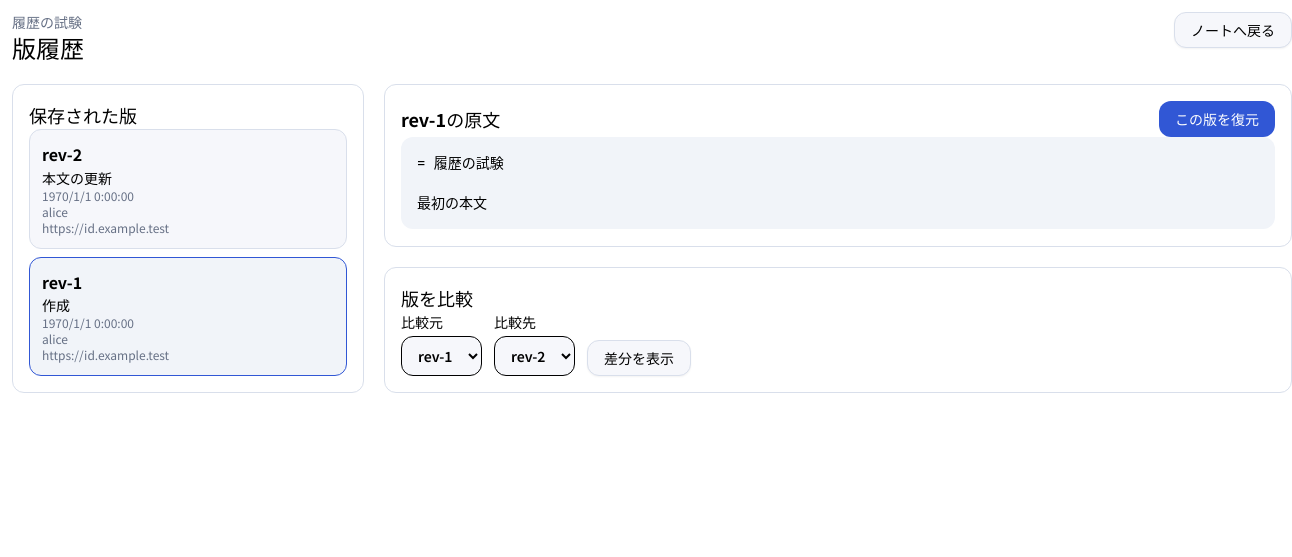
Test case: NoteHistoryPage › 過去版の原文と行単位diffを表示する
Expected: the text "最初の本文" is shown, x1=417 y1=153 x2=504 y2=212
Step 1. Click the button "差分を表示" → (639, 358), box x1=587 y1=340 x2=691 y2=376
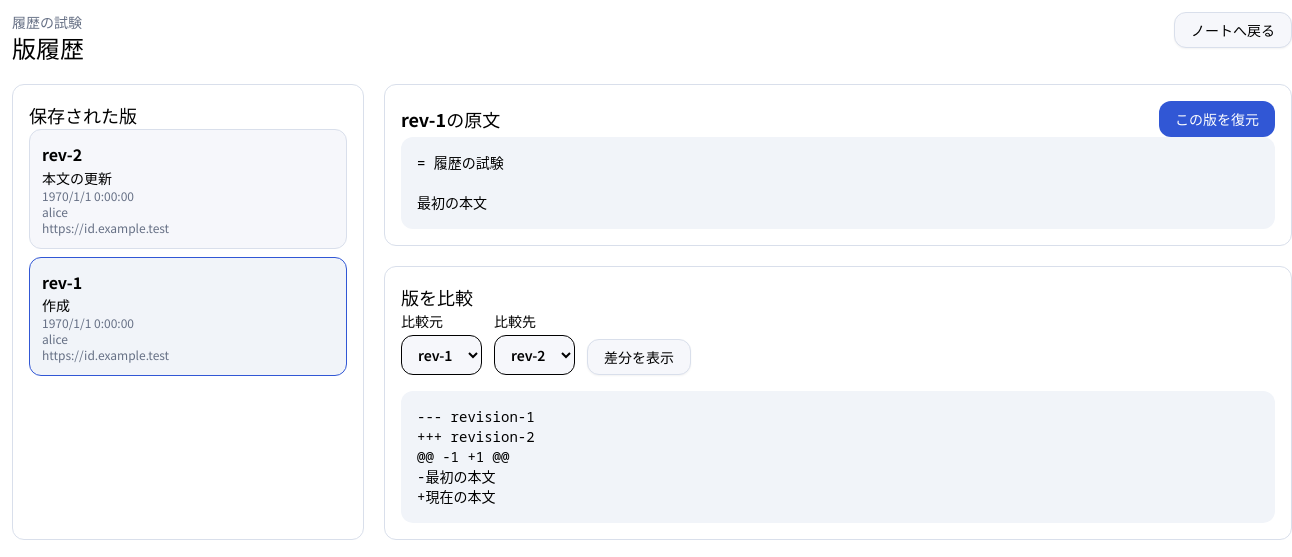
Expected: the button "この版を復元" is shown, x1=1159 y1=101 x2=1275 y2=137
Expected: the text named "行単位の差分" shows "-最初の本文", x1=417 y1=407 x2=535 y2=506
Expected: the text named "行単位の差分" shows "+現在の本文", x1=417 y1=407 x2=535 y2=506
